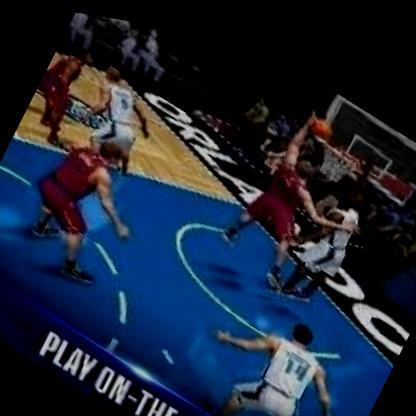basketball: (309, 105, 336, 133)
